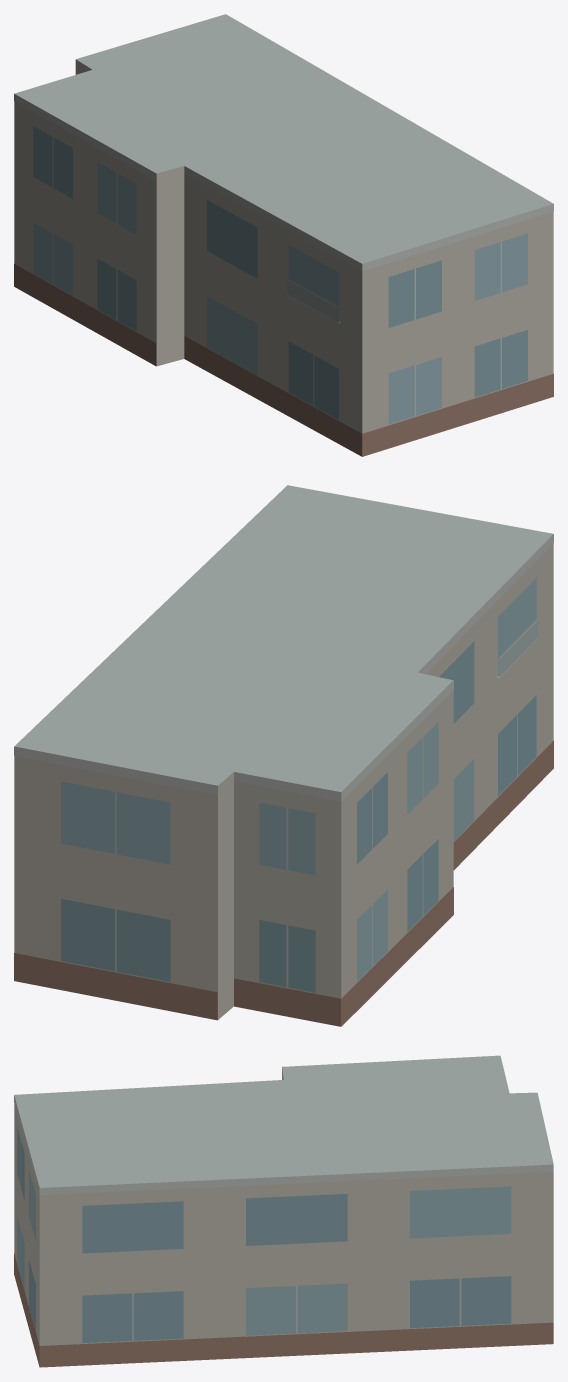
File: survey-upis-32646591.glb
3 views of the same model, one above another, from view 1: azimuth 30°, elevation 25°; view 2: azimuth 150°, elevation 25°; view 3: azimuth 270°, elevation 25° (orthographic). The views are drawn at different scales.
Visible parts, largest first — view 1: survey-upis-32646591.tmp; view 2: survey-upis-32646591.tmp; view 3: survey-upis-32646591.tmp.
Boxes of the visible parts, left/top/right/bottom form: survey-upis-32646591.tmp: left=14, top=14, right=553, bottom=456; survey-upis-32646591.tmp: left=14, top=485, right=553, bottom=1026; survey-upis-32646591.tmp: left=14, top=1055, right=553, bottom=1367.
Size of the model in its own units: 9.67 by 6.1 by 16.64.
